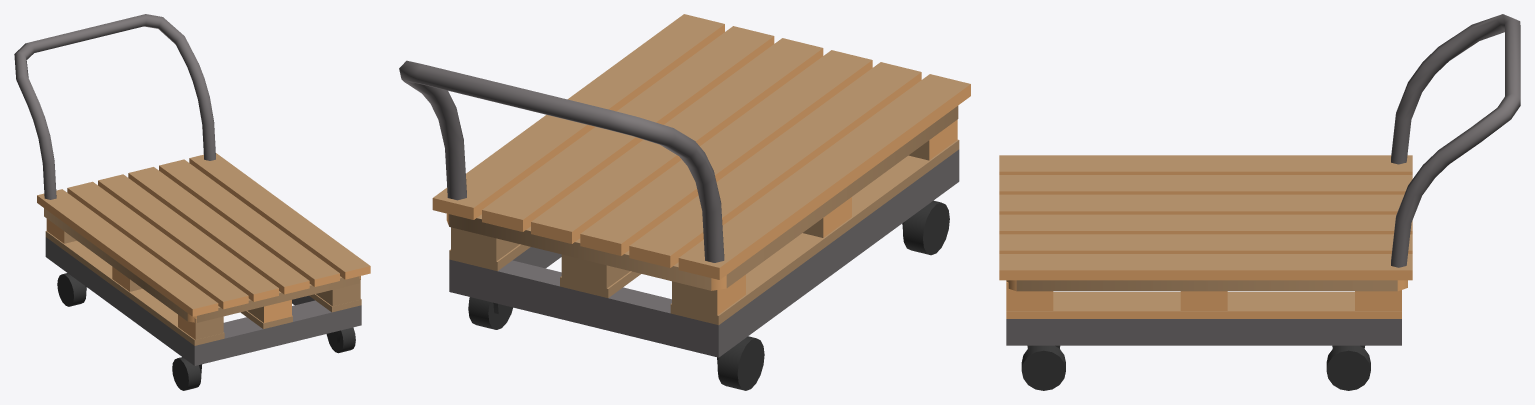
Rendered from palette.fbx.
The picture shows the model from 3 angles, left to right: view 1: azimuth 30°, elevation 25°; view 2: azimuth 150°, elevation 25°; view 3: azimuth 270°, elevation 25°; orthographic projection. The views are drawn at different scales.
Visible parts, largest first — view 1: palette; view 2: palette; view 3: palette.
Part boxes in pixels (box(x1,y1,x2,y2)): palette: box(14, 14, 370, 390); palette: box(399, 14, 970, 390); palette: box(999, 14, 1520, 390).
Size of the model in its own units: 0.5478 by 0.6241 by 1.05.
